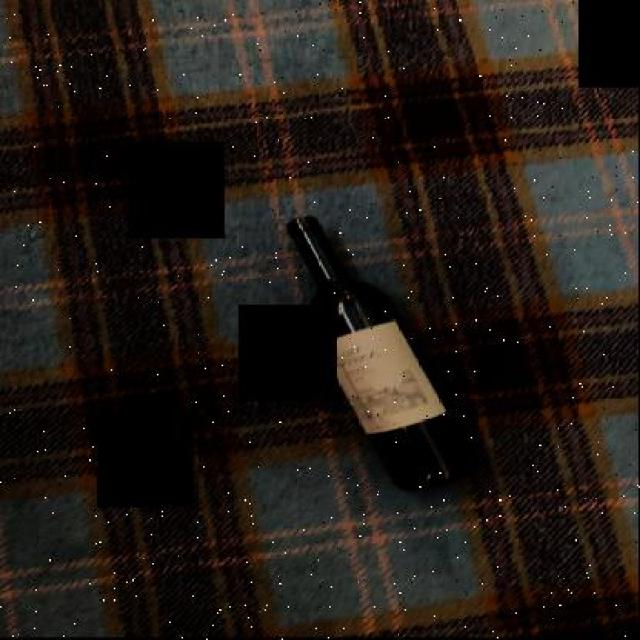glass: (284, 214, 480, 495)
